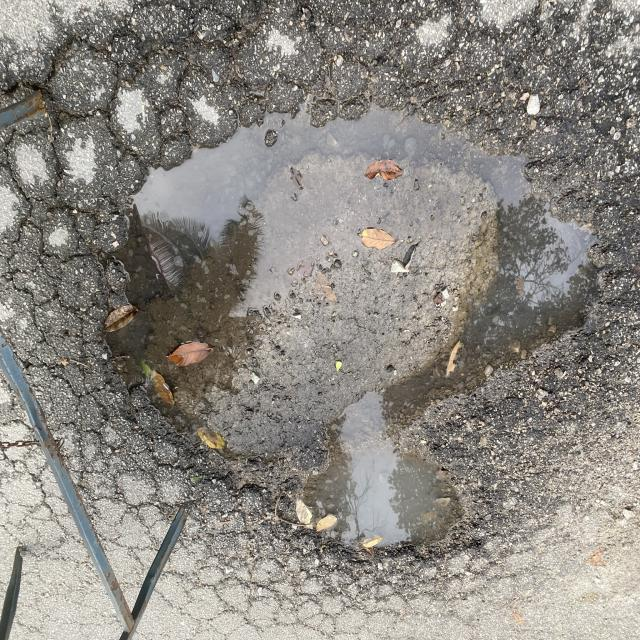pothole: (70, 88, 574, 577)
